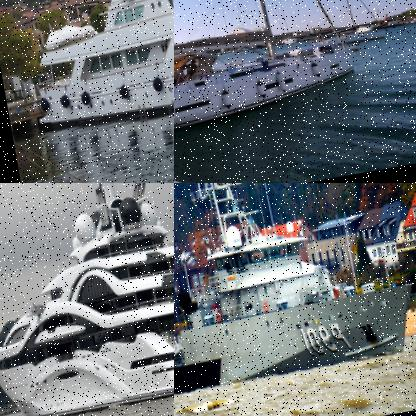Patrol Boat: (174, 183, 415, 405)
Sails Boat: (174, 0, 361, 148), (304, 0, 386, 50)
Yacht: (0, 183, 173, 415), (3, 0, 173, 138)
